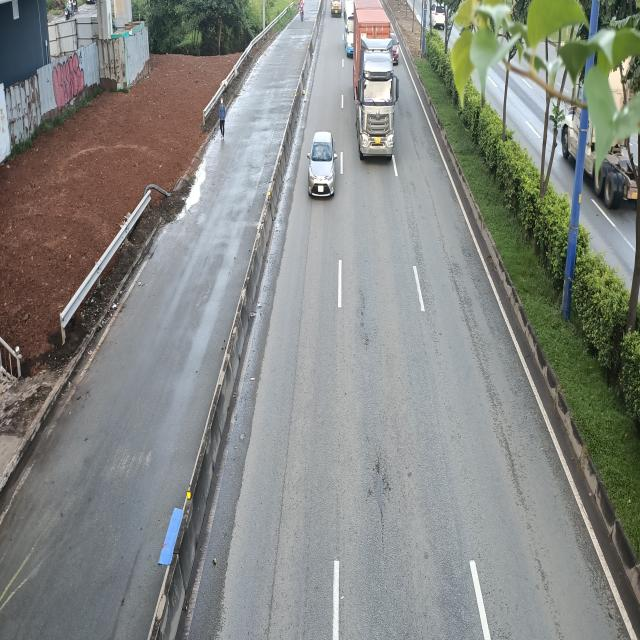car: (310, 134, 339, 202)
container: (351, 0, 398, 160)
truck: (332, 0, 346, 17)
